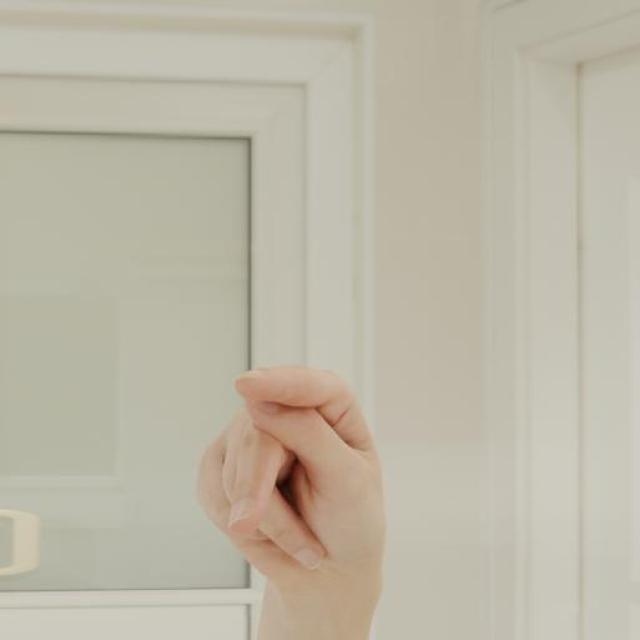P: (192, 360, 389, 602)
